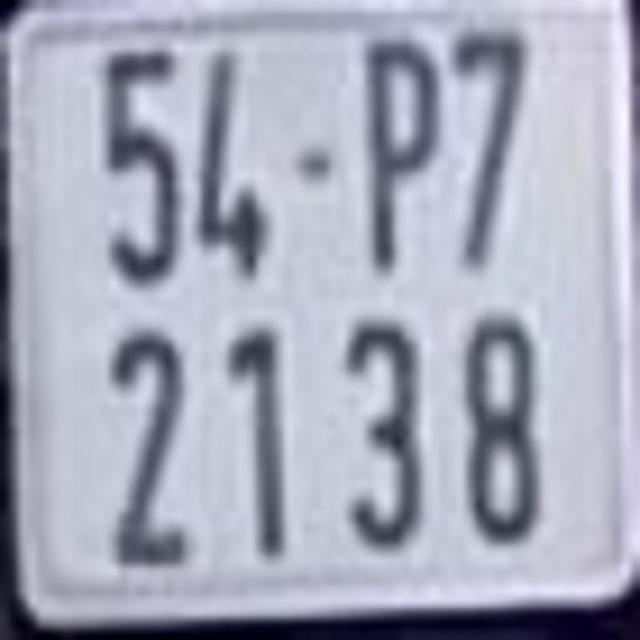1: (216, 314, 315, 562)
2: (90, 319, 201, 571)
3: (337, 306, 431, 549)
4: (184, 34, 278, 281)
5: (91, 40, 183, 290)
7: (445, 13, 534, 262)
8: (454, 292, 551, 551)
P: (351, 34, 442, 273)
